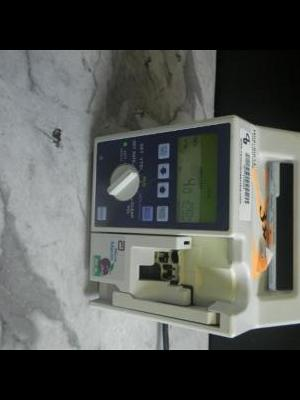plumxl1: (90, 113, 300, 339)
